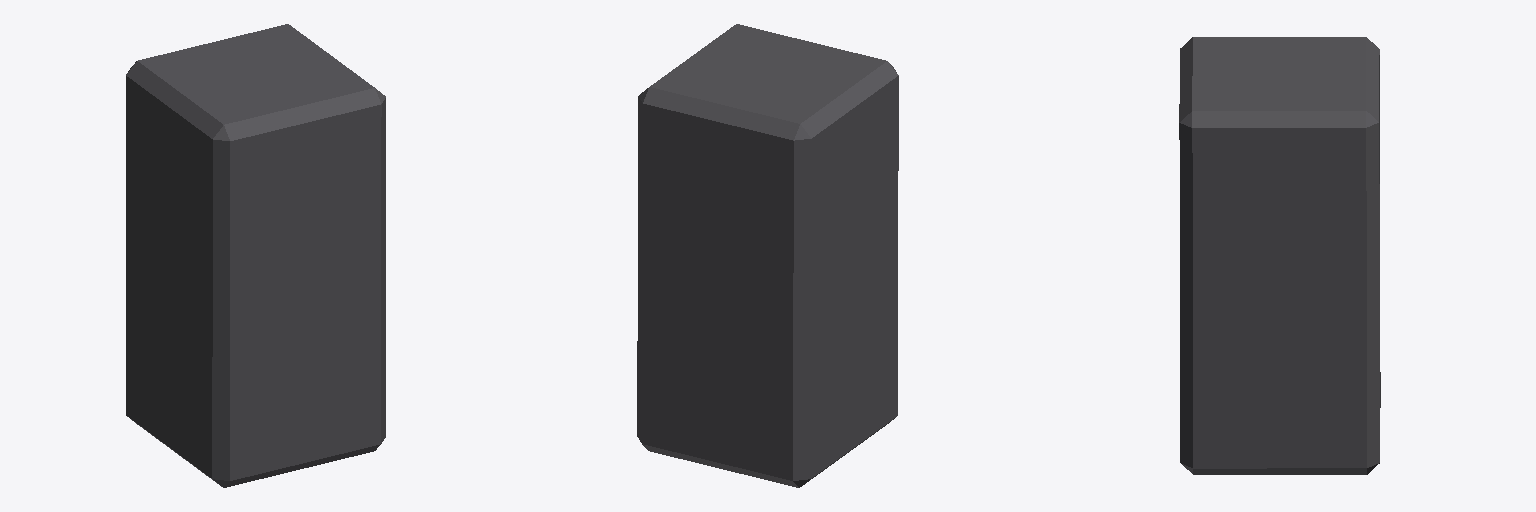
Rendered from LeftLeg.obj.
3 views of the same model, side by side, from view 1: azimuth 30°, elevation 25°; view 2: azimuth 150°, elevation 25°; view 3: azimuth 270°, elevation 25° (orthographic).
Parts seen in each view (by area): view 1: Leftleg1; view 2: Leftleg1; view 3: Leftleg1.
Part boxes in pixels (left/top/right/bottom): Leftleg1: left=126, top=24, right=385, bottom=487; Leftleg1: left=637, top=24, right=898, bottom=487; Leftleg1: left=1179, top=37, right=1380, bottom=474.
Bounding box in the file's own units: 1 × 2 × 1.